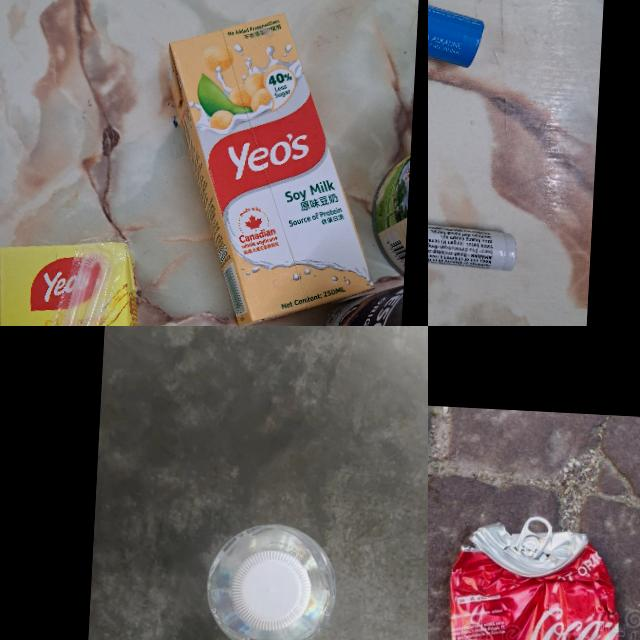aba de lata: (518, 515, 553, 562)
bateria: (428, 217, 519, 272), (428, 0, 487, 68)
caixinha: (155, 8, 389, 326), (0, 235, 158, 326)
garrafa plástica: (201, 518, 342, 640)
lata: (441, 519, 628, 640)
tampa plástica: (225, 552, 315, 632)
